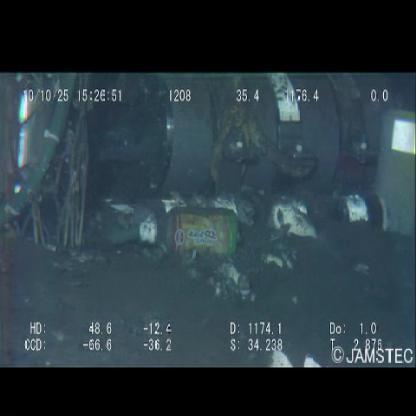Rov: (2, 74, 416, 239)
Rác: (136, 203, 243, 260)
